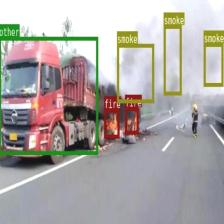fire: (104, 109, 119, 137), (125, 106, 138, 134)
smoke: (116, 43, 154, 102), (164, 24, 182, 95), (203, 42, 223, 86)
